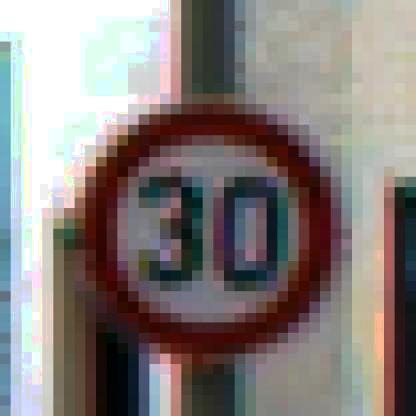Speed Limit -30-: (81, 95, 348, 360)
